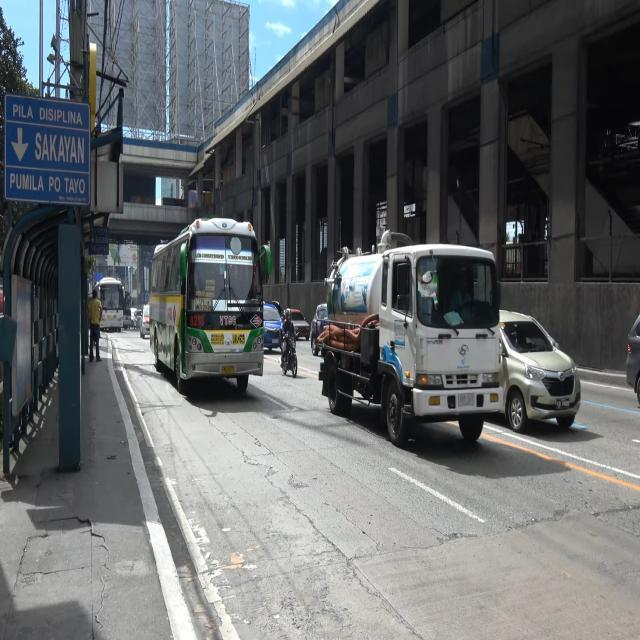bus: (150, 213, 274, 394), (98, 276, 124, 332)
car: (498, 304, 581, 439), (261, 298, 281, 350), (292, 308, 310, 342)
motorcycle: (277, 308, 298, 376)
truck: (313, 229, 504, 446)
